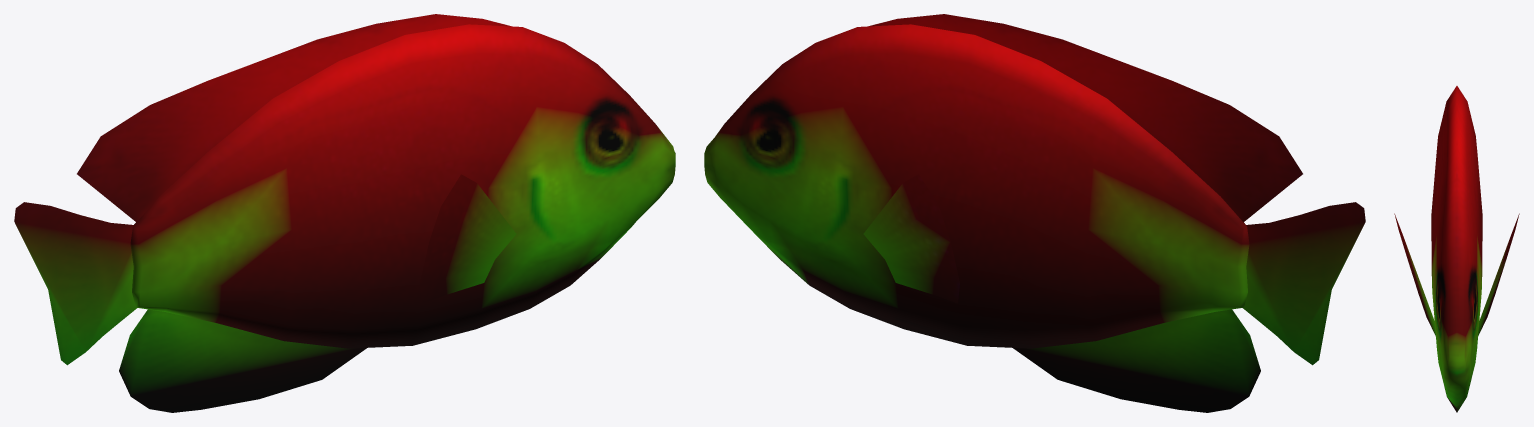
The model's file is lemonpeel_angelfish.glb.
The picture shows the model from 3 angles, left to right: view 1: azimuth 30°, elevation 25°; view 2: azimuth 150°, elevation 25°; view 3: azimuth 270°, elevation 25°; orthographic projection. The views are drawn at different scales.
Parts seen in each view (by area): view 1: LemonpeelAngelfish; view 2: LemonpeelAngelfish; view 3: LemonpeelAngelfish.
Part boxes in pixels (x1,y1,x2,y2): LemonpeelAngelfish: (14,14,675,412); LemonpeelAngelfish: (704,14,1365,412); LemonpeelAngelfish: (1394,86,1519,412).
Size of the model in its own units: 1 by 0.5012 by 0.2036.
1 material, 1 textured.
